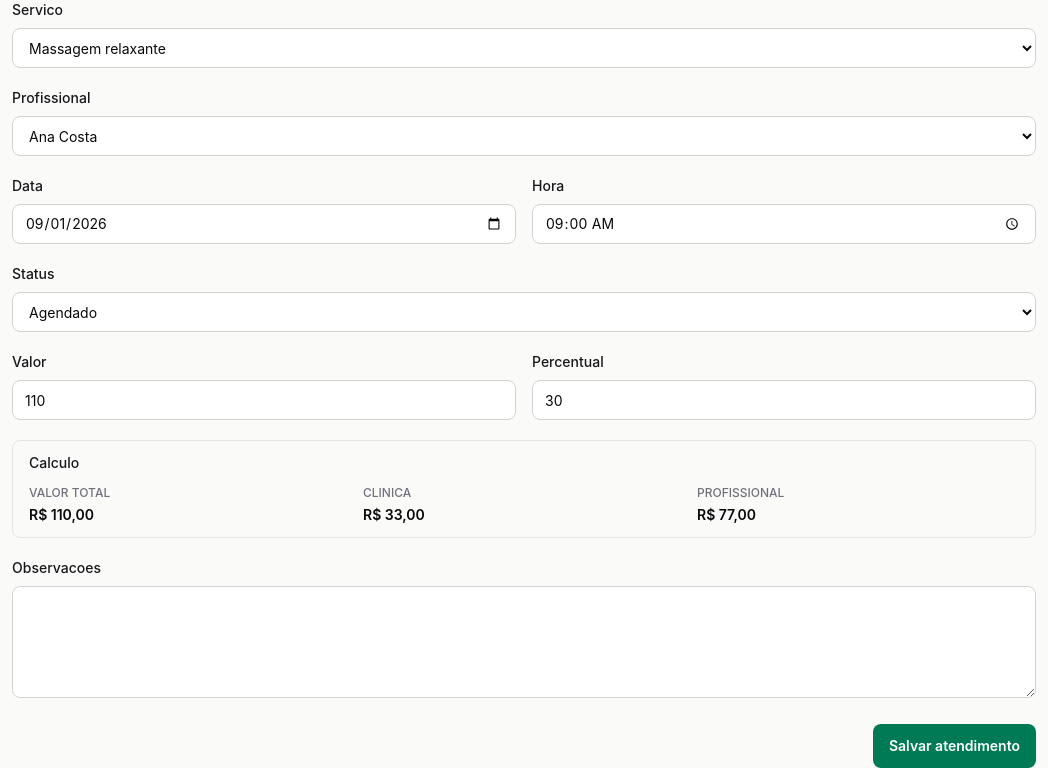
Test: AppointmentForm mobile UX › desabilita o envio e impede uma segunda submissão enquanto a primeira aguarda
(page scrolled)
What coordinates should you click on to do the following:
click the submit button
I would click on:
 (954, 746)
Its box is [873,724,1036,767].
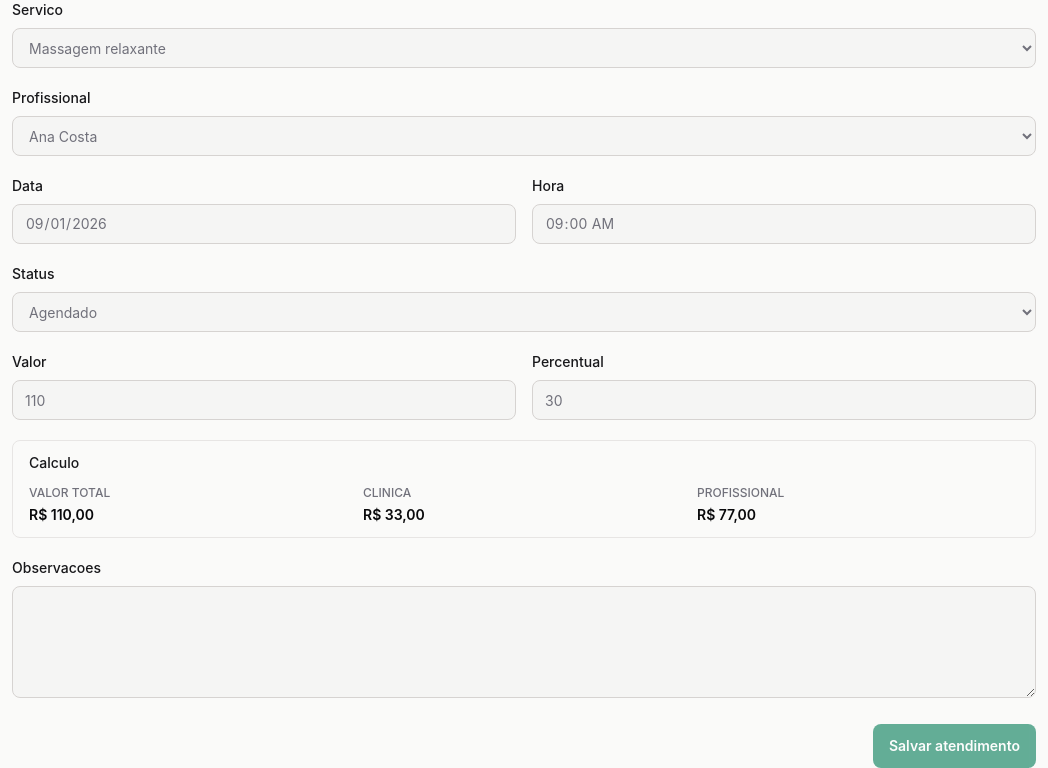
Expected: the submit button is disabled
What coordinates should you click on to do the following:
click the submit button
I would click on:
 (954, 746)
Its box is [873,724,1036,767].
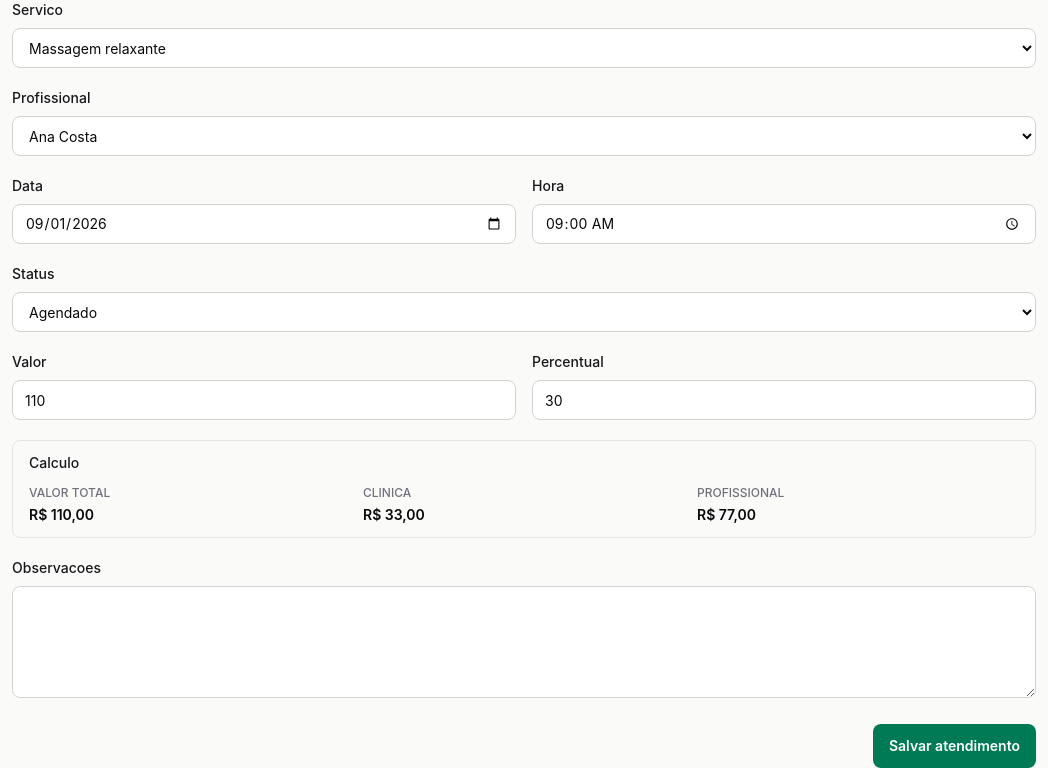
Expected: the submit button is enabled, [873,724,1036,767]
